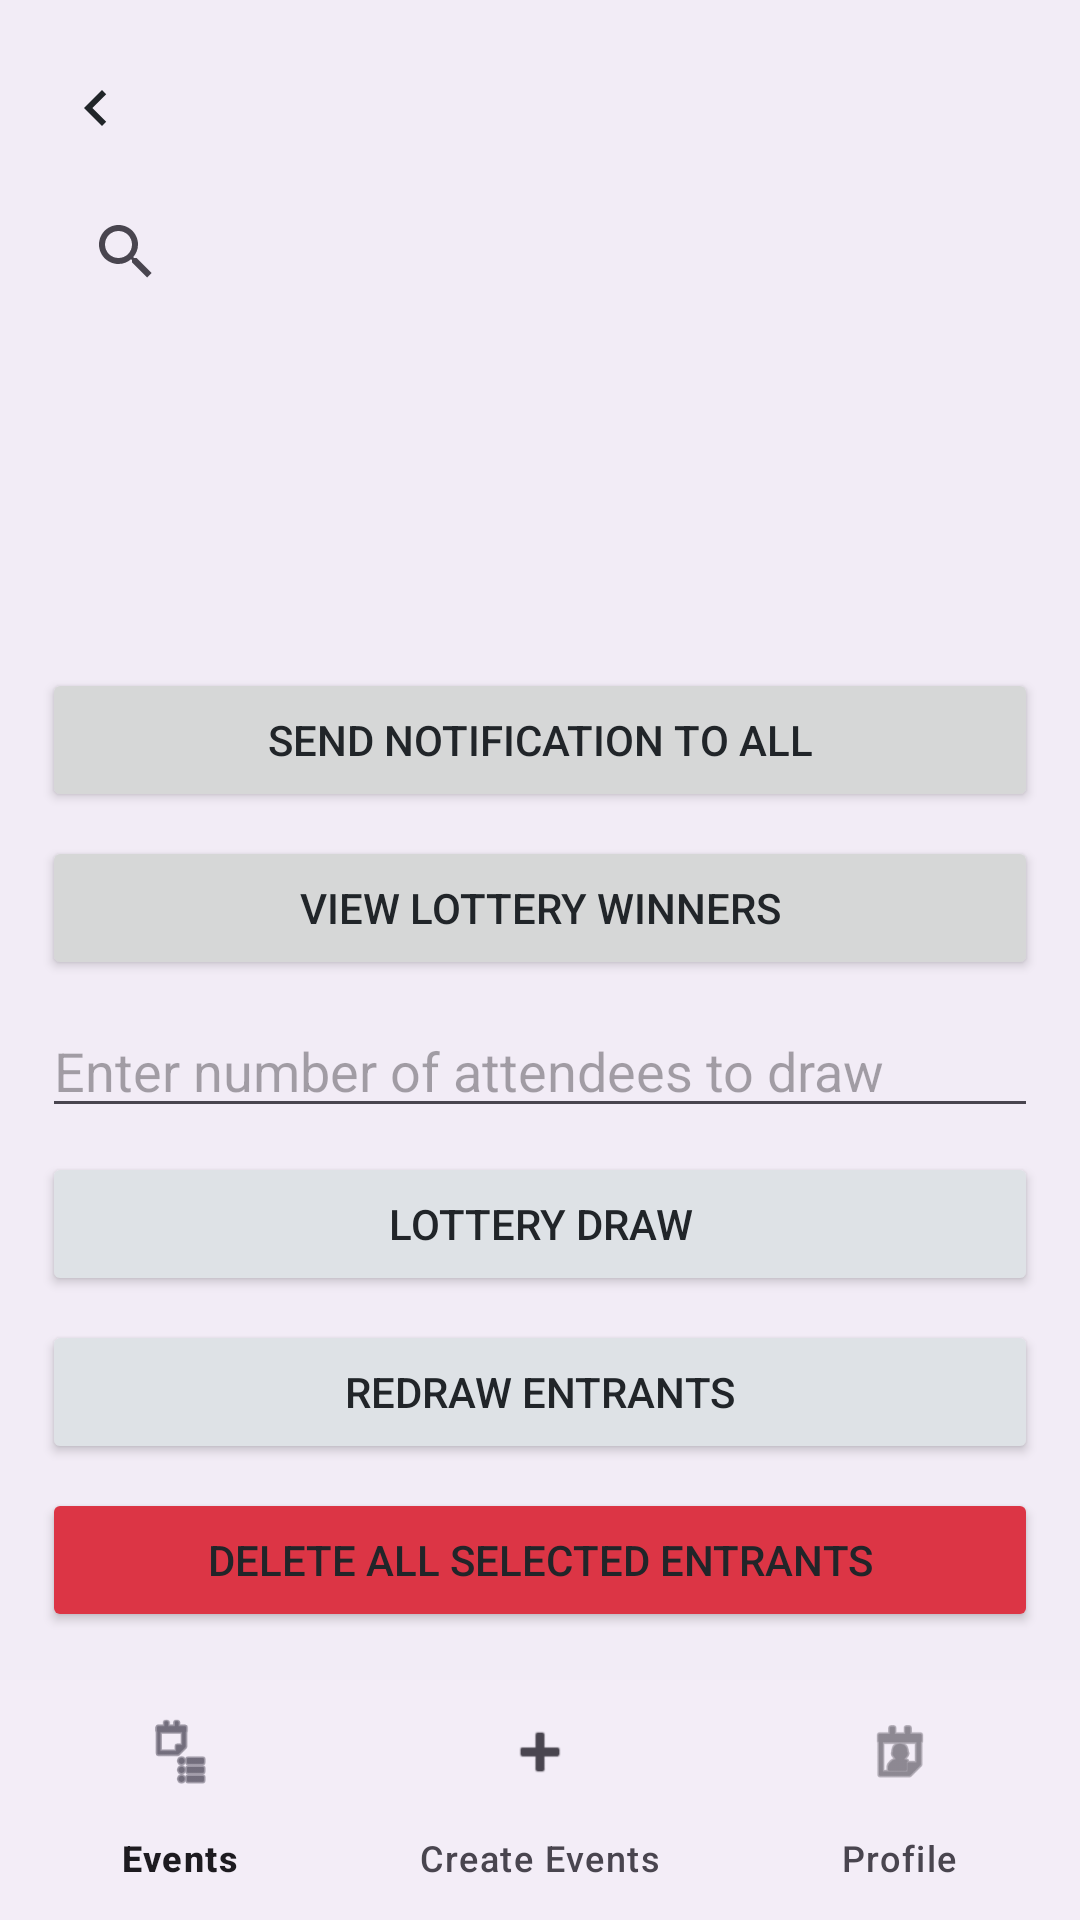

Icons on this 1080×1920 Android screen, each with its box as rect(x1, y1, x2, y2):
Back: rect(84, 90, 106, 126)
